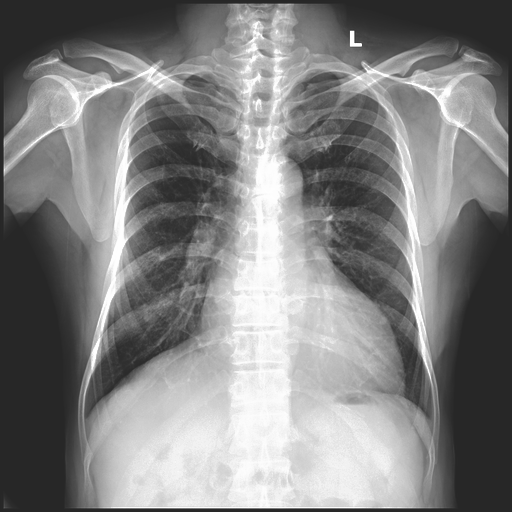Nodule/Mass: (201, 292, 407, 399)
